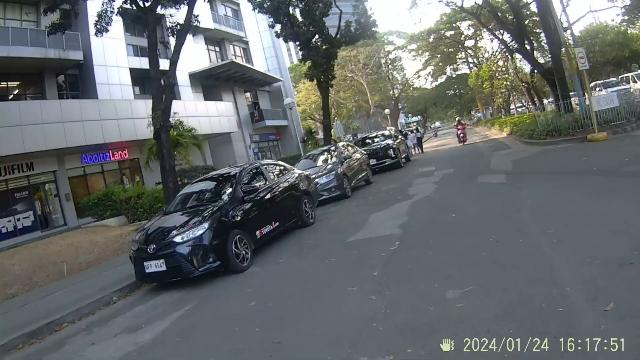car: (127, 148, 331, 288)
street_sign: (576, 47, 606, 142)
tree: (146, 11, 180, 193), (314, 35, 336, 143)
